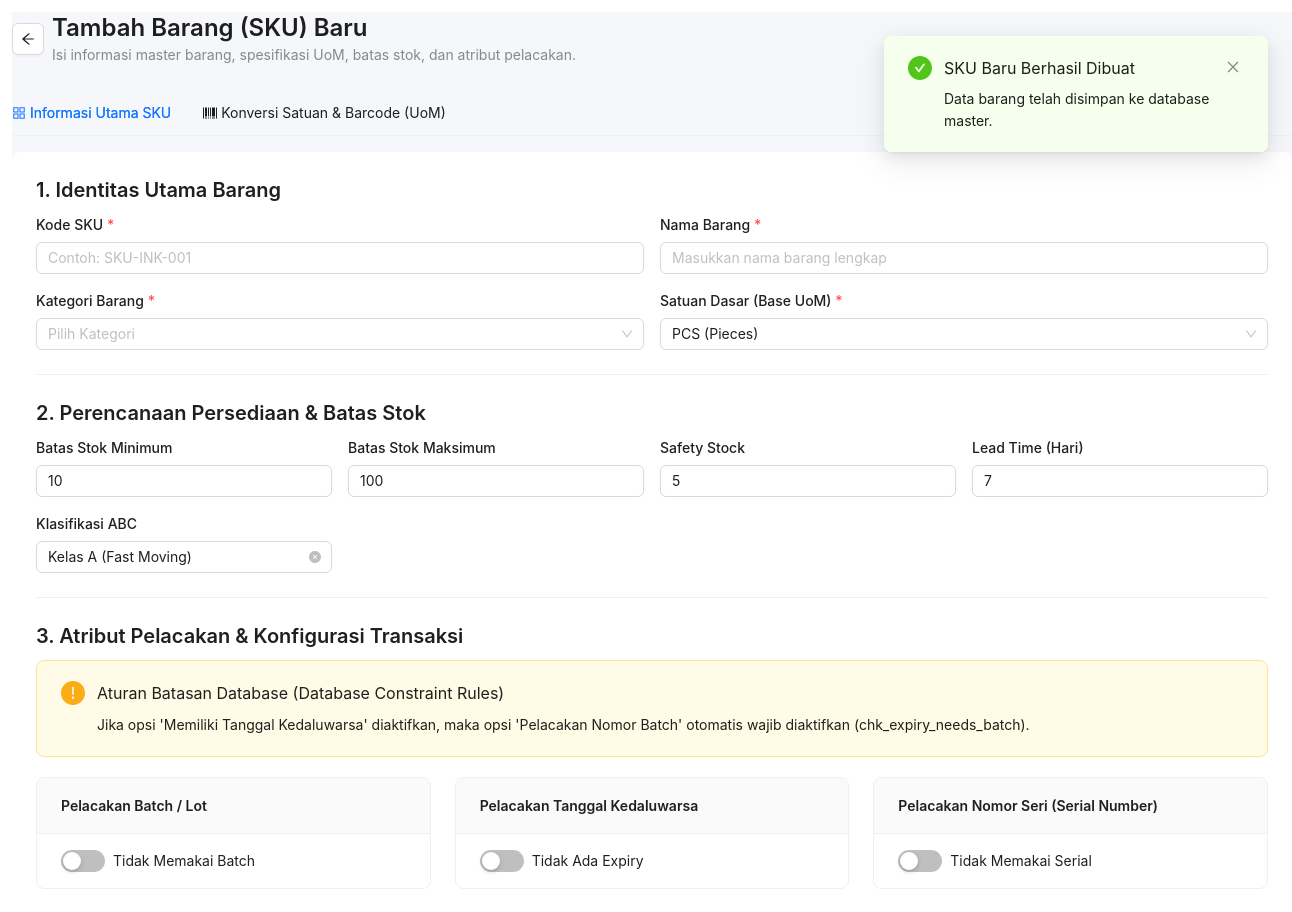
Test: ItemFormPage Component › automatically enables isBatch when isExpiry switch is toggled on
# Toggle Expiry ON
Click the switch with test id "switch-is-expiry": (502, 861) [480,850,524,872]
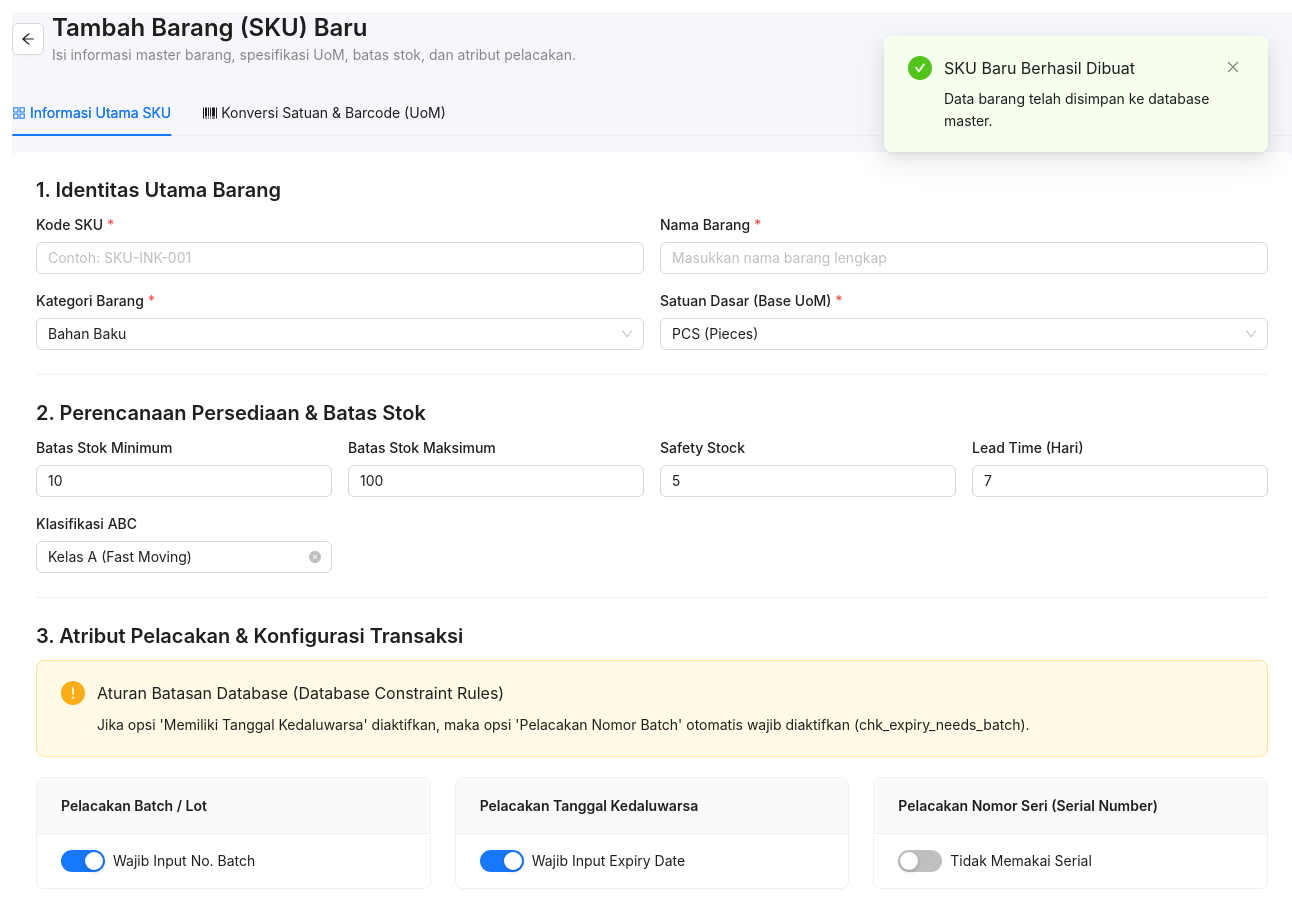
Expected: the switch with test id "switch-is-batch" is checked, [61,850,105,872]
